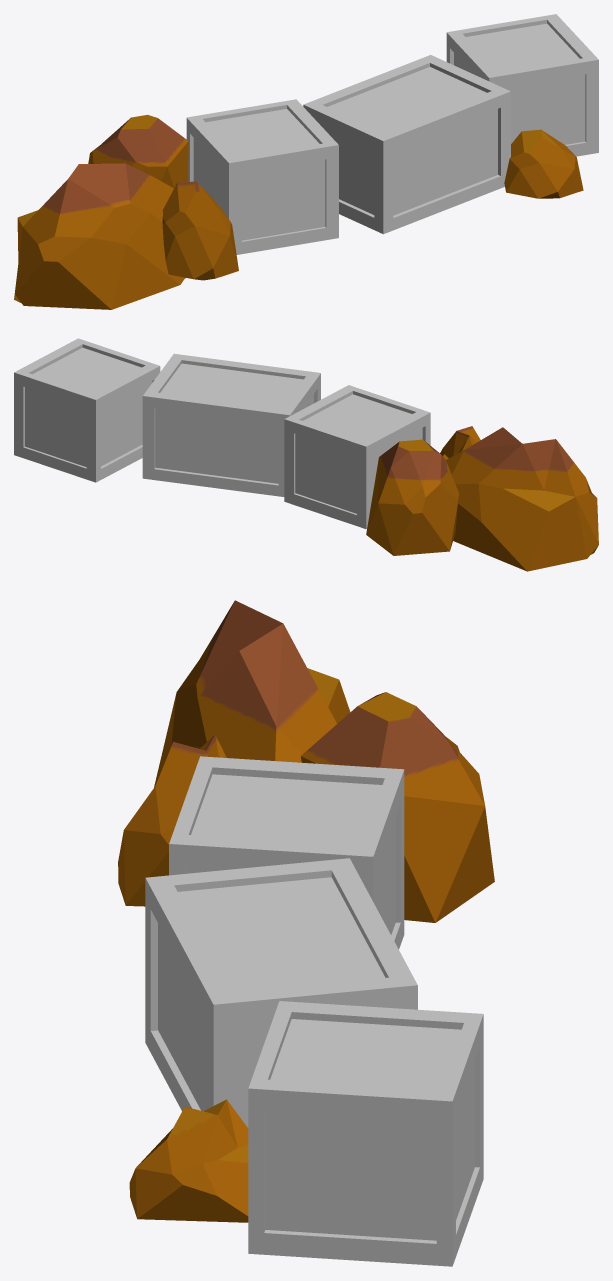
Rendered from cover4.fbx.
The picture shows the model from 3 angles, top to bottom: view 1: azimuth 30°, elevation 25°; view 2: azimuth 150°, elevation 25°; view 3: azimuth 270°, elevation 25°; orthographic projection. The views are drawn at different scales.
Parts seen in each view (by area): view 1: cover4; view 2: cover4; view 3: cover4.
Part boxes in pixels (<box>): cover4: <box>14,14,598,309</box>; cover4: <box>14,338,598,571</box>; cover4: <box>118,600,494,1266</box>.
Size of the model in its own units: 884 by 191 by 271.
